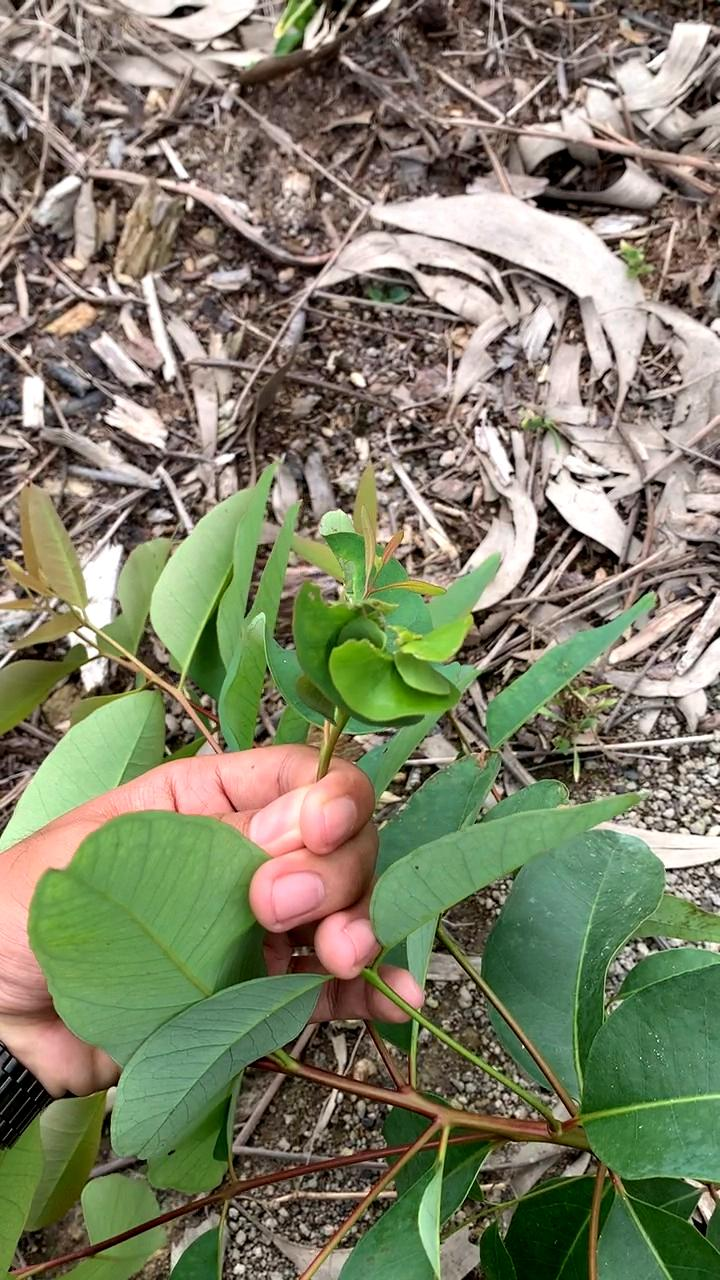Leaf Roller - Leaf: (298, 586, 497, 725)
